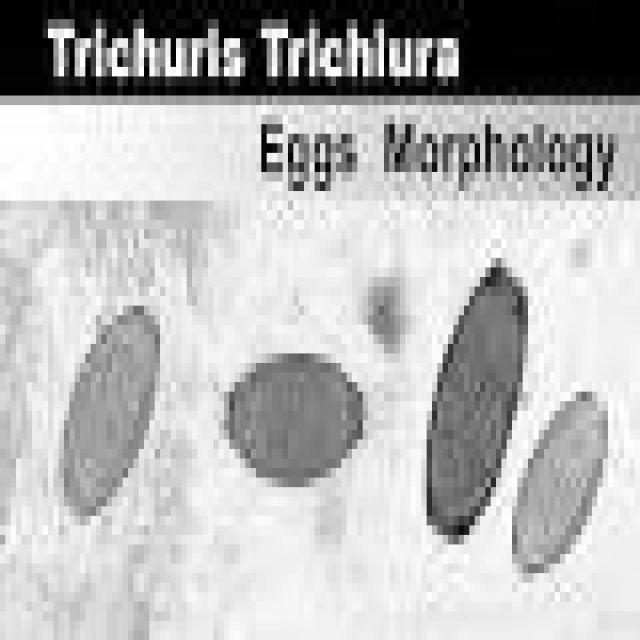Trichuris Trichiura: (418, 244, 530, 568), (51, 286, 162, 544), (504, 372, 611, 602), (216, 344, 371, 497)
